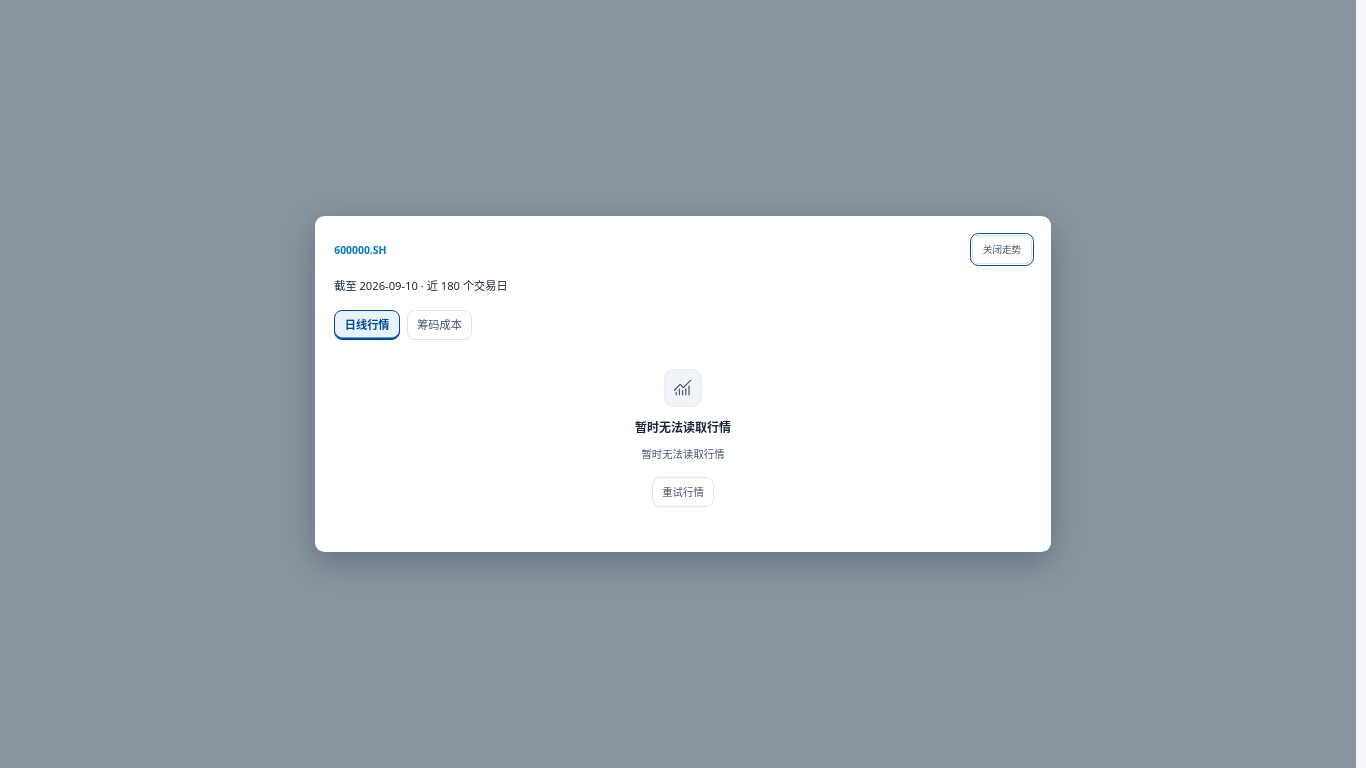
it: offers a retry for the same security and cutoff after a failed read
This screenshot has width=1366, height=768.
Step 1. Click the button "重试行情" → (683, 492), box top-left (652, 477), bottom-right (714, 507)
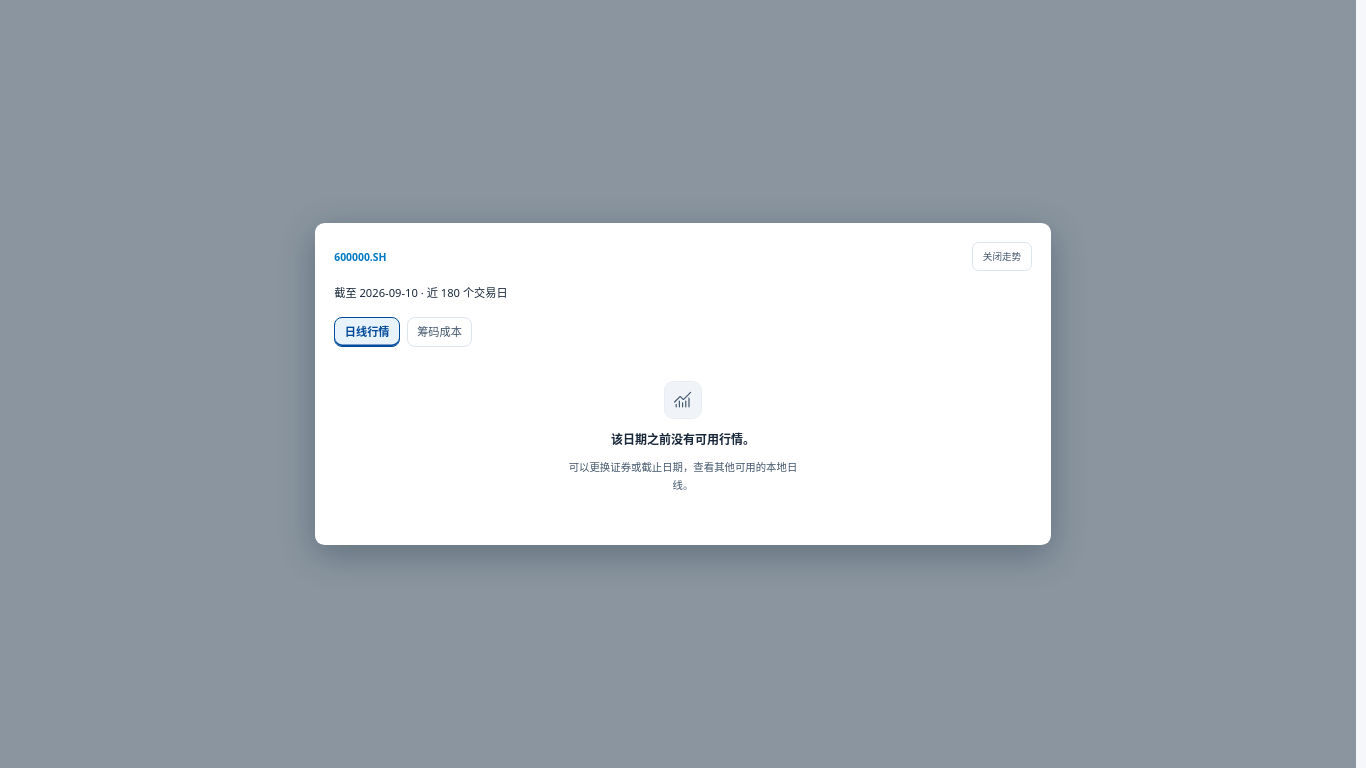
Expected: the text "该日期之前没有可用行情。" is shown, top-left (611, 430), bottom-right (755, 450)
